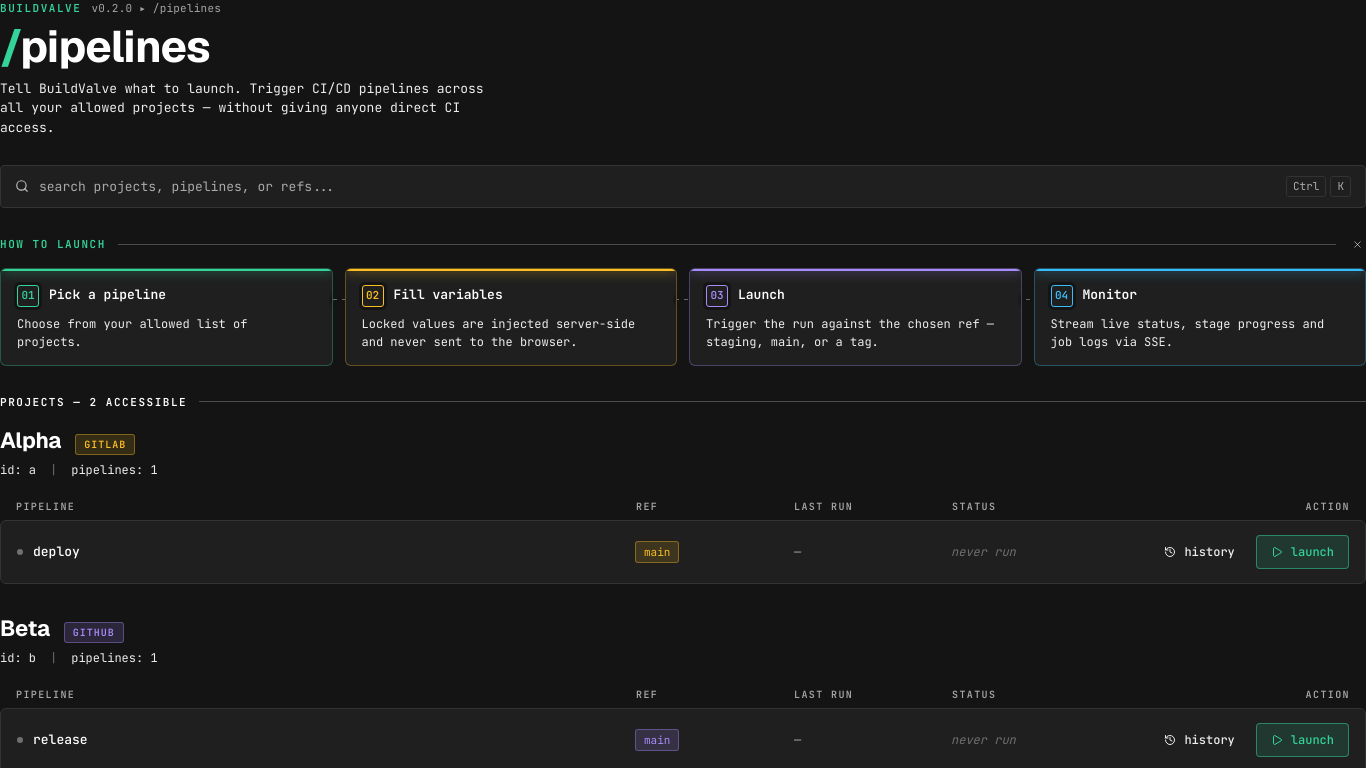
Test: PipelinesPage › filters projects/pipelines by search query
Check: the heading "Alpha" is shown, box [0, 424, 61, 457]
Check: the heading "Beta" is shown, box [0, 612, 50, 645]
Type "alpha" into the field with placeholder "search projects, pipelines, or refs...".
click(658, 186); type("alpha")  # box [39, 176, 1276, 196]
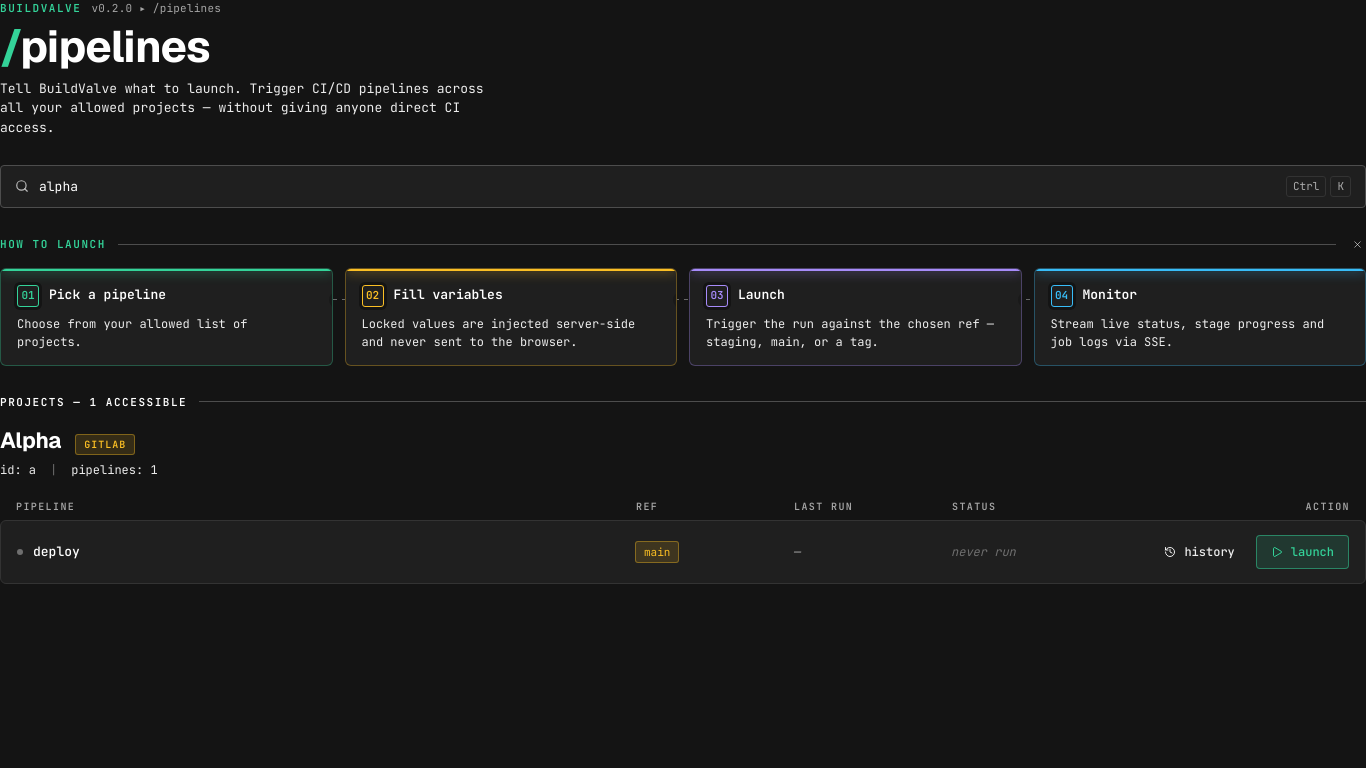
Check: the heading "Alpha" is shown, box [0, 424, 61, 457]
Check: the heading "Beta" is gone
